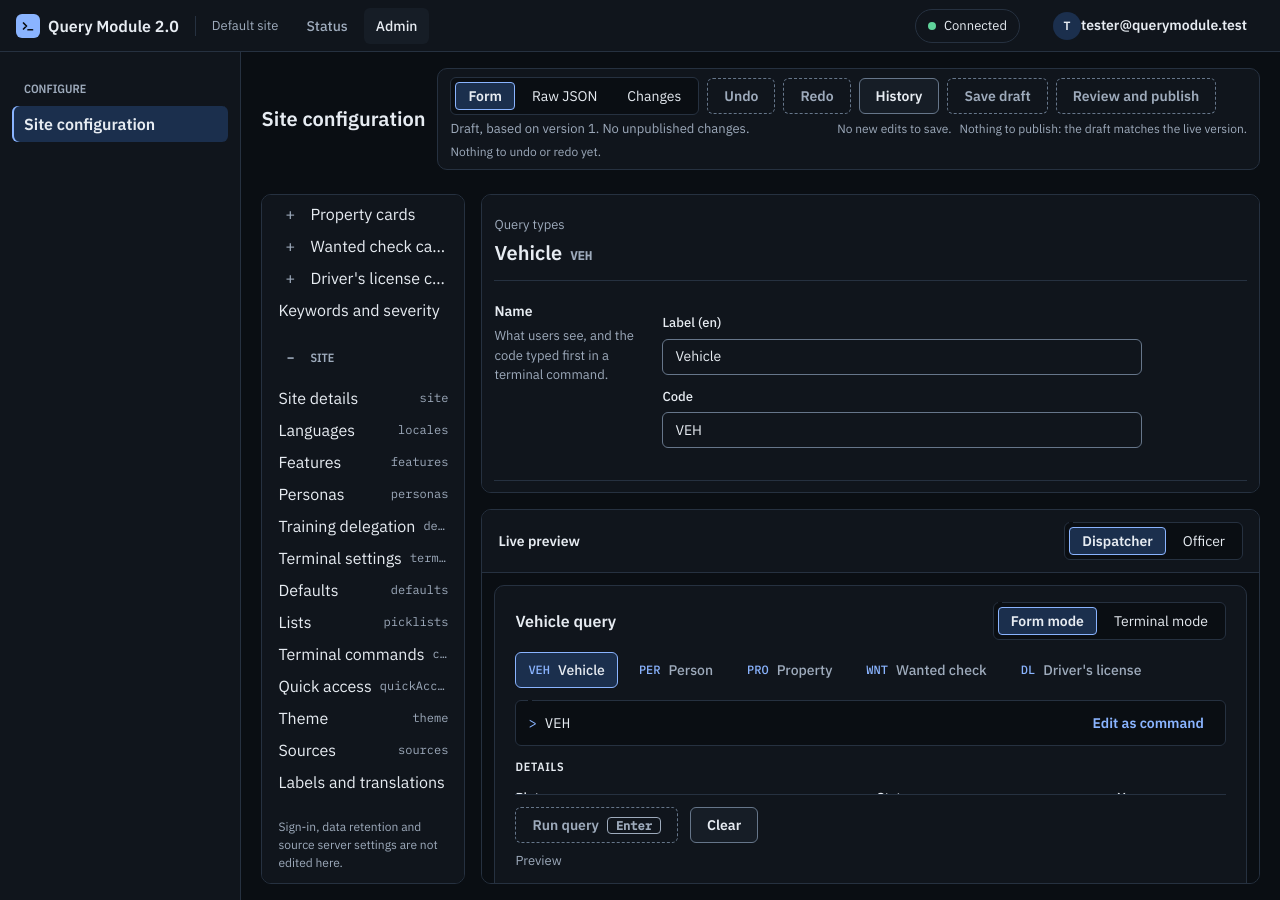
dirty-draft guard (B1) › Stay signed in closes it, keeps the session and the draft, and focus is not lost
(page scrolled)
Expected: the tab "Form" is shown, 456,82 -> 515,110
Click the list item "Terminal settings terminal".
click(363, 558)  # box 270,542 -> 456,574
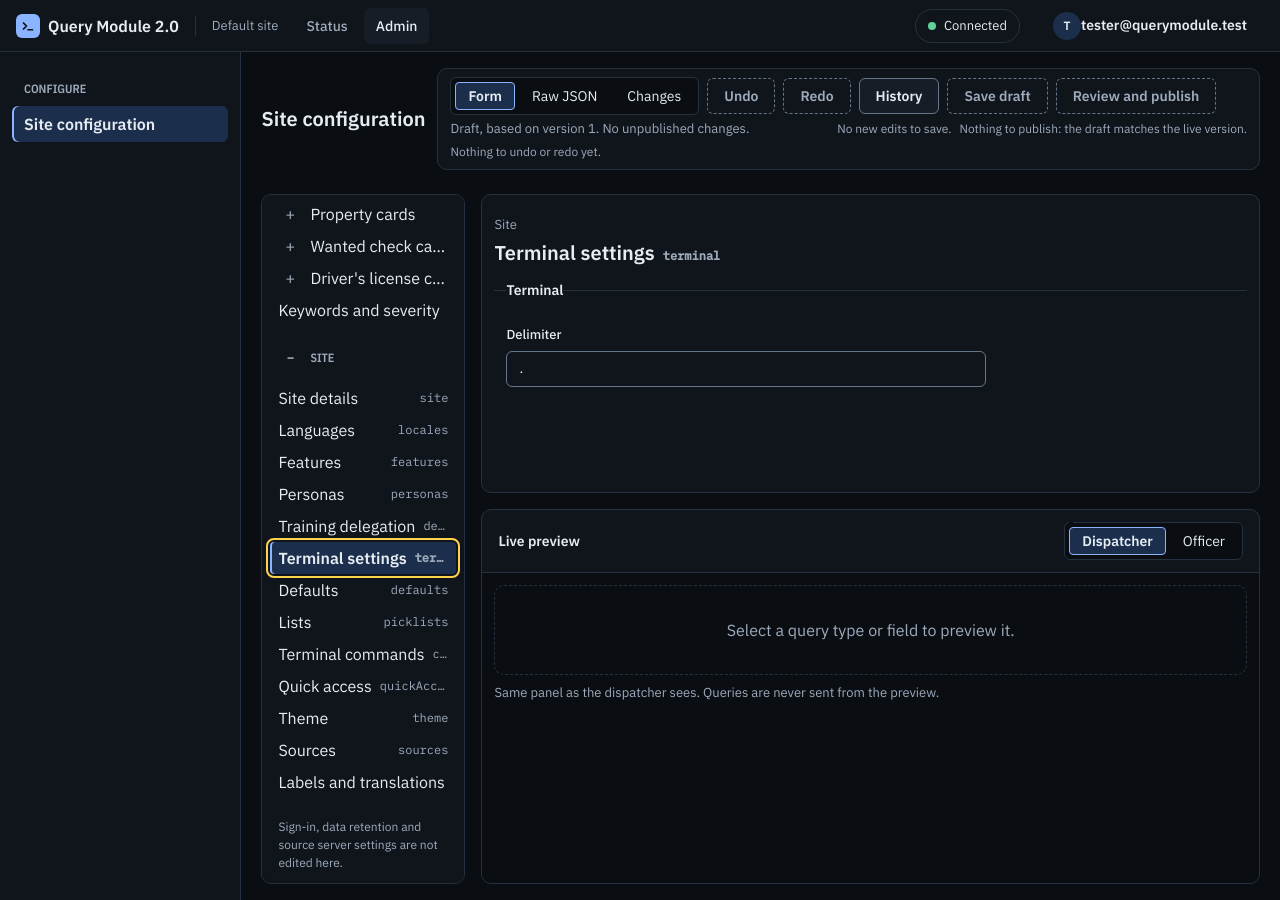
Clear the field labelled "Delimiter" at x=746, y=368, box 506,350 -> 986,386
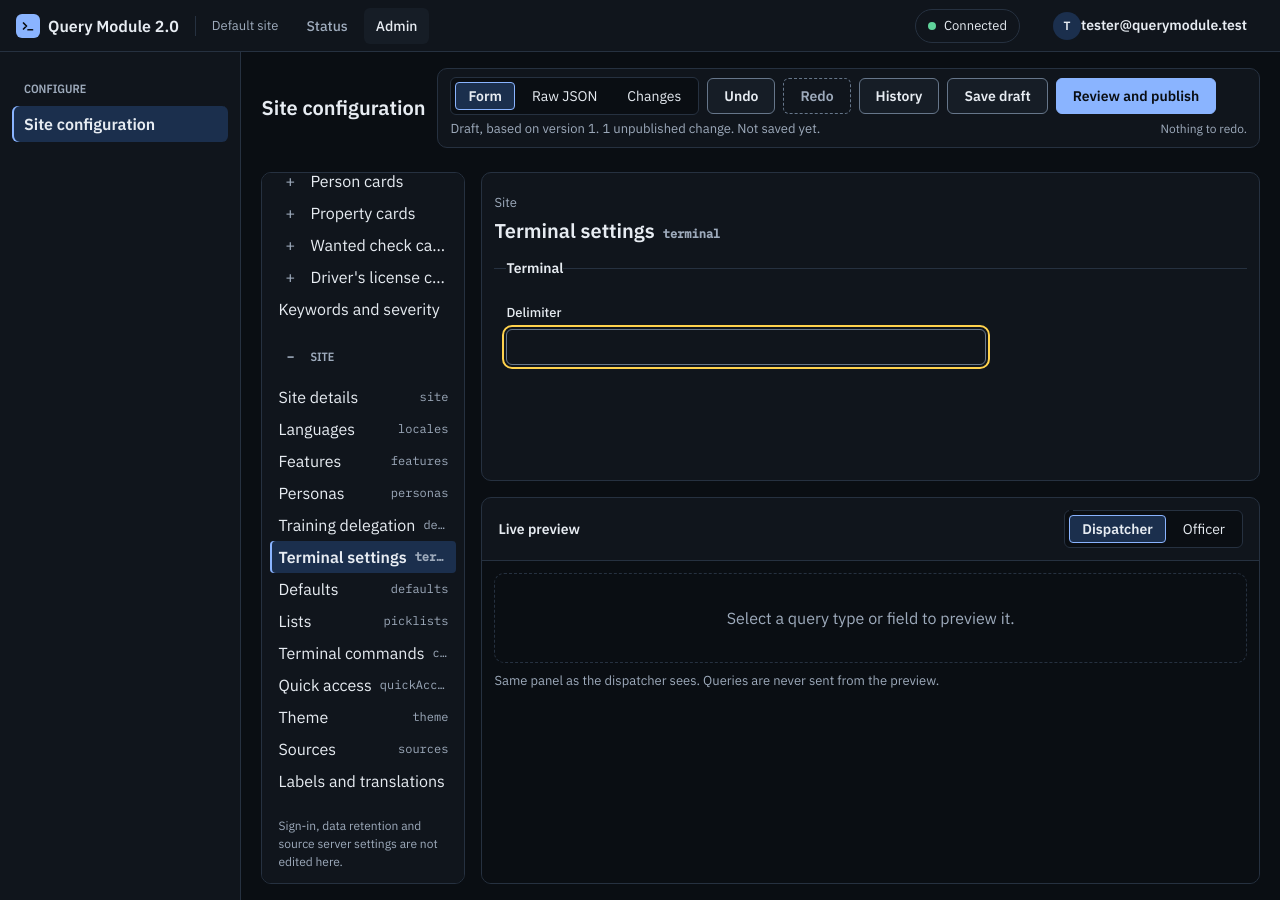
Type "~" into the field labelled "Delimiter".
click(746, 346); type("~")  # box 506,328 -> 986,364
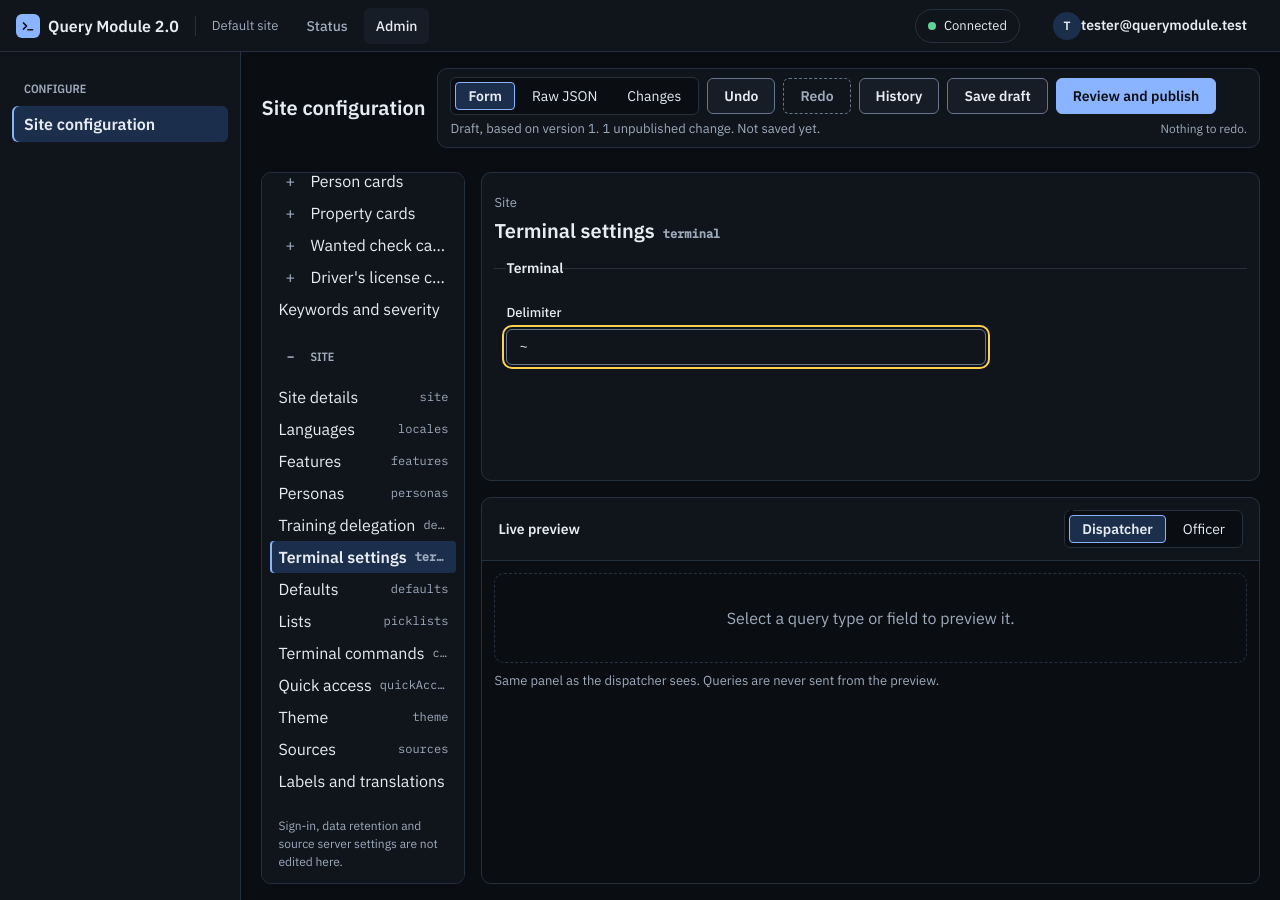
Click the button "T tester@querymodule.test".
click(1150, 26)  # box 1036,8 -> 1264,44
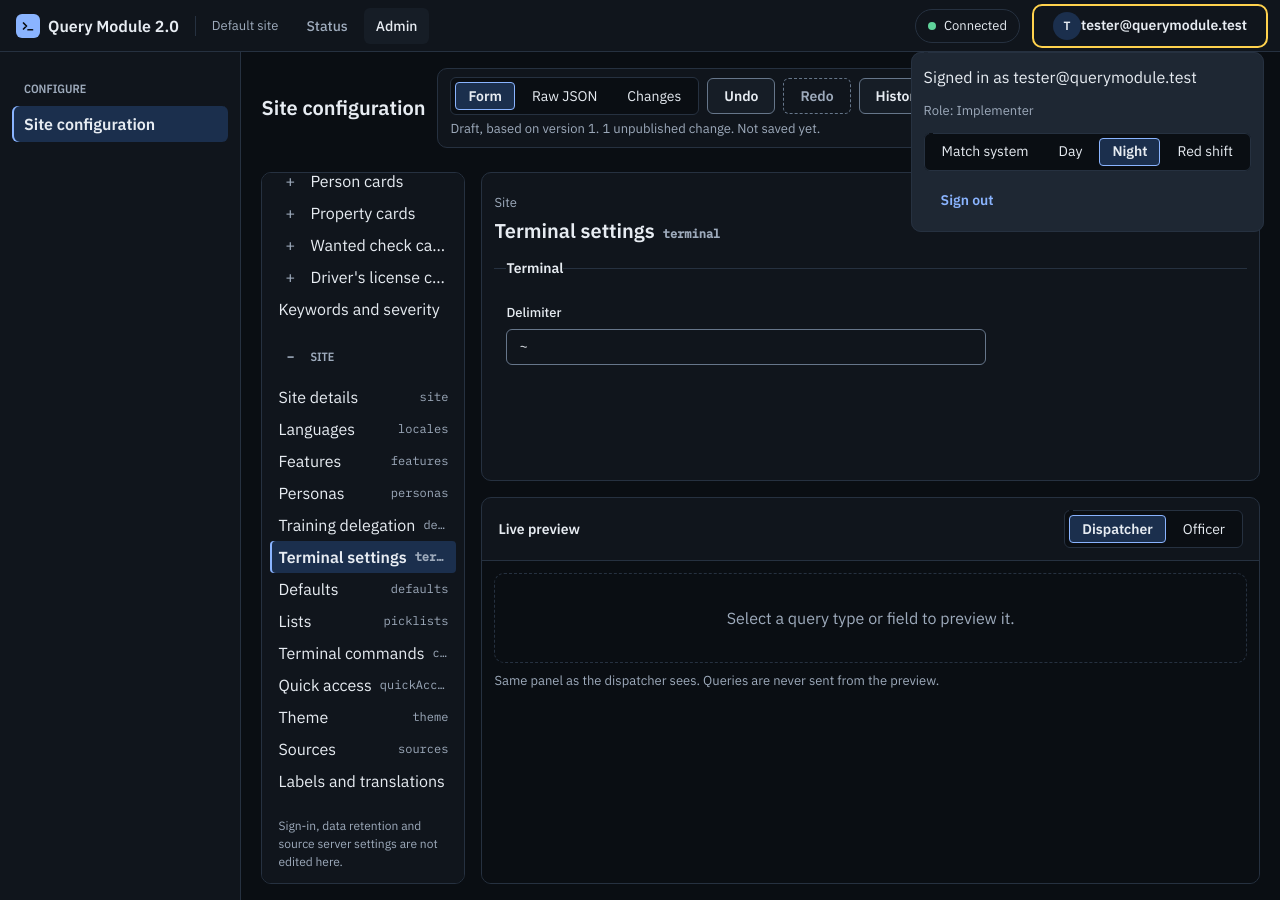
Click the button "Sign out".
click(967, 200)  # box 924,182 -> 1010,218
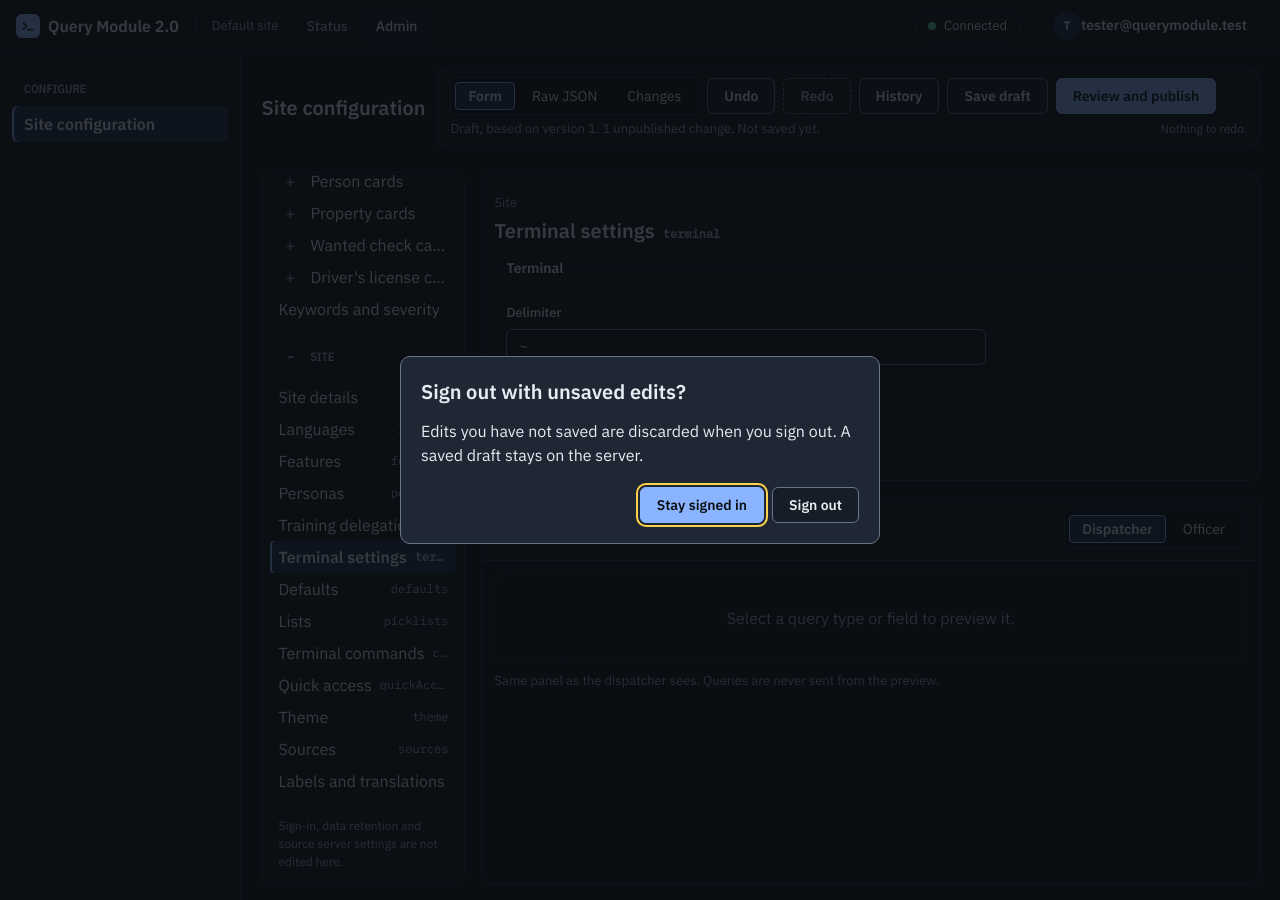
Click the button "Stay signed in".
click(702, 505)  # box 640,487 -> 764,523
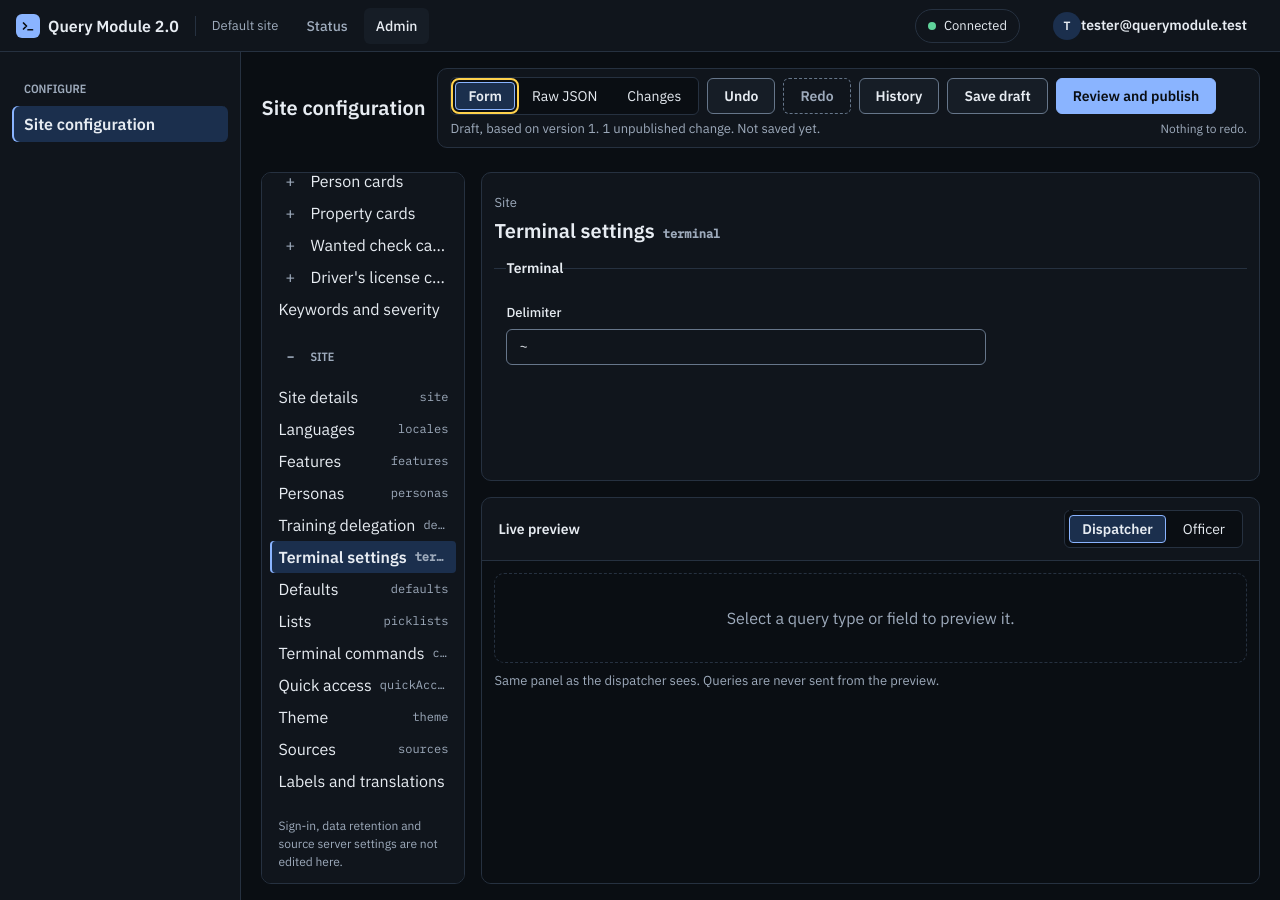
Expected: the tab "Form" is shown, 456,82 -> 515,110
Expected: the dialog is gone
